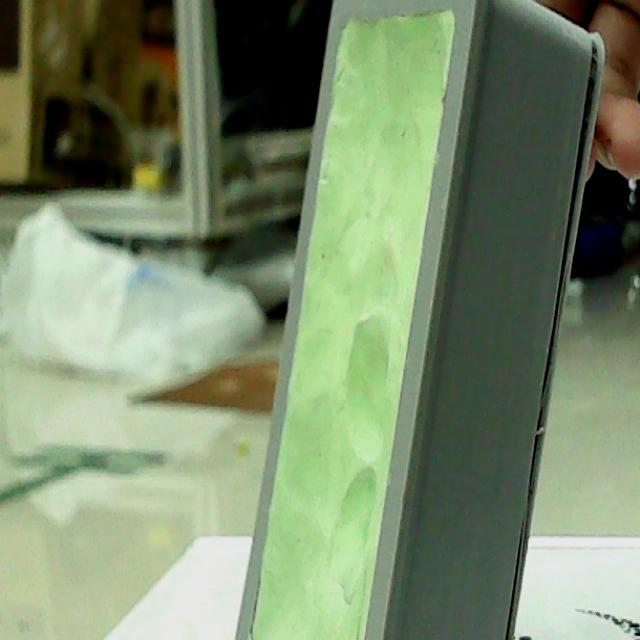block: (210, 0, 615, 640)
